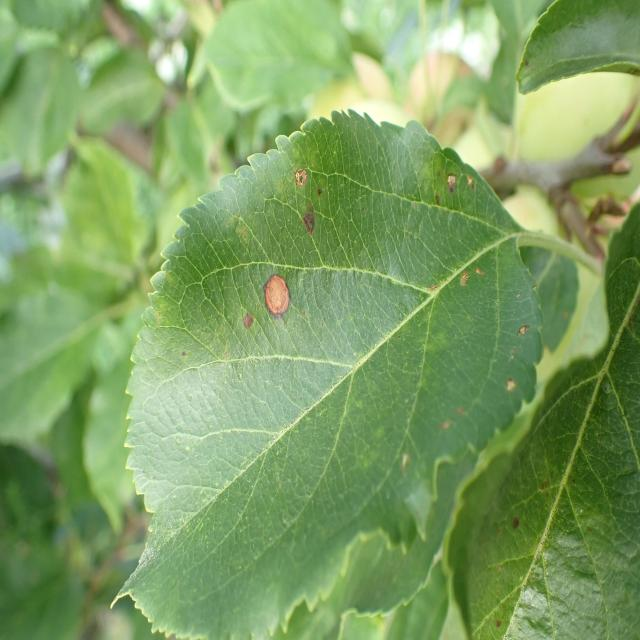Black Rot: (411, 134, 488, 237), (256, 242, 301, 340), (490, 343, 526, 421), (284, 150, 316, 199)
